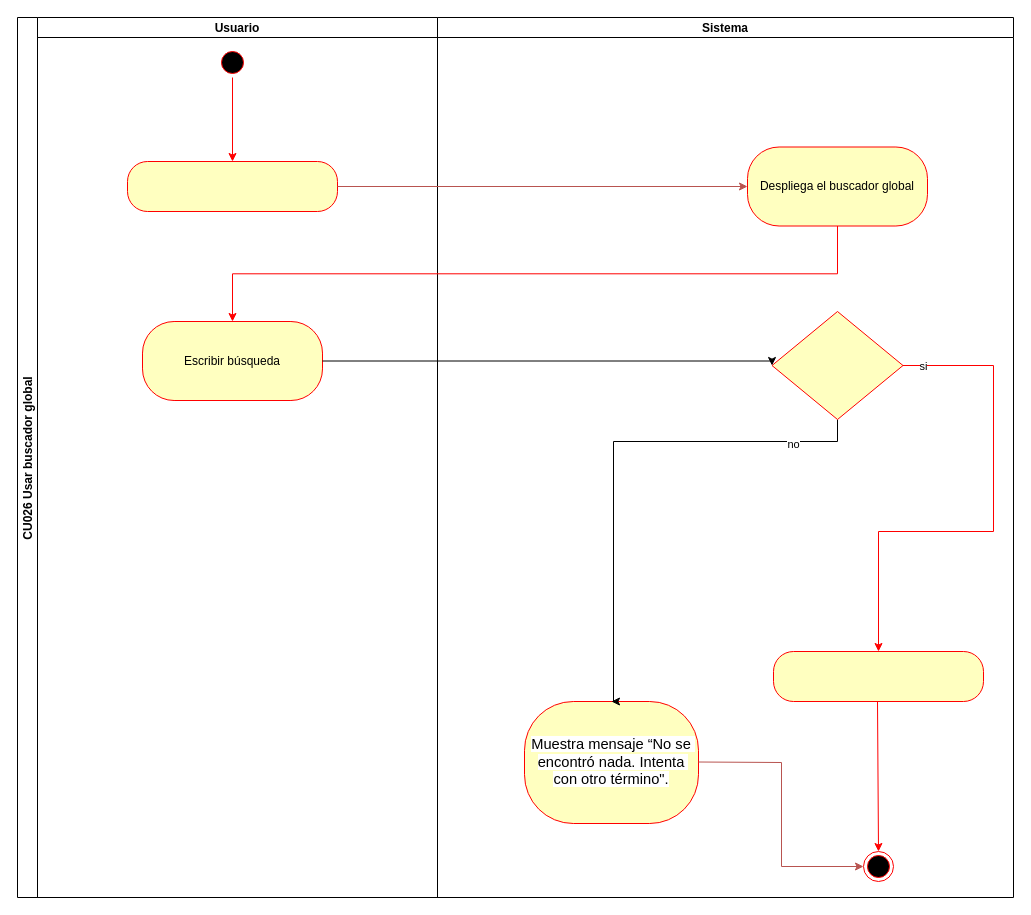
The diagram is 1031 pixels wide and 915 high, and some of its shapes have lost their labels. Each missing label, with the centre of its shape:
Hacer click en la barra de búsqueda: pixel 232 186
Redirige al usuario a los resultados: pixel 878 676
¿Campo digitado?: pixel 837 365
